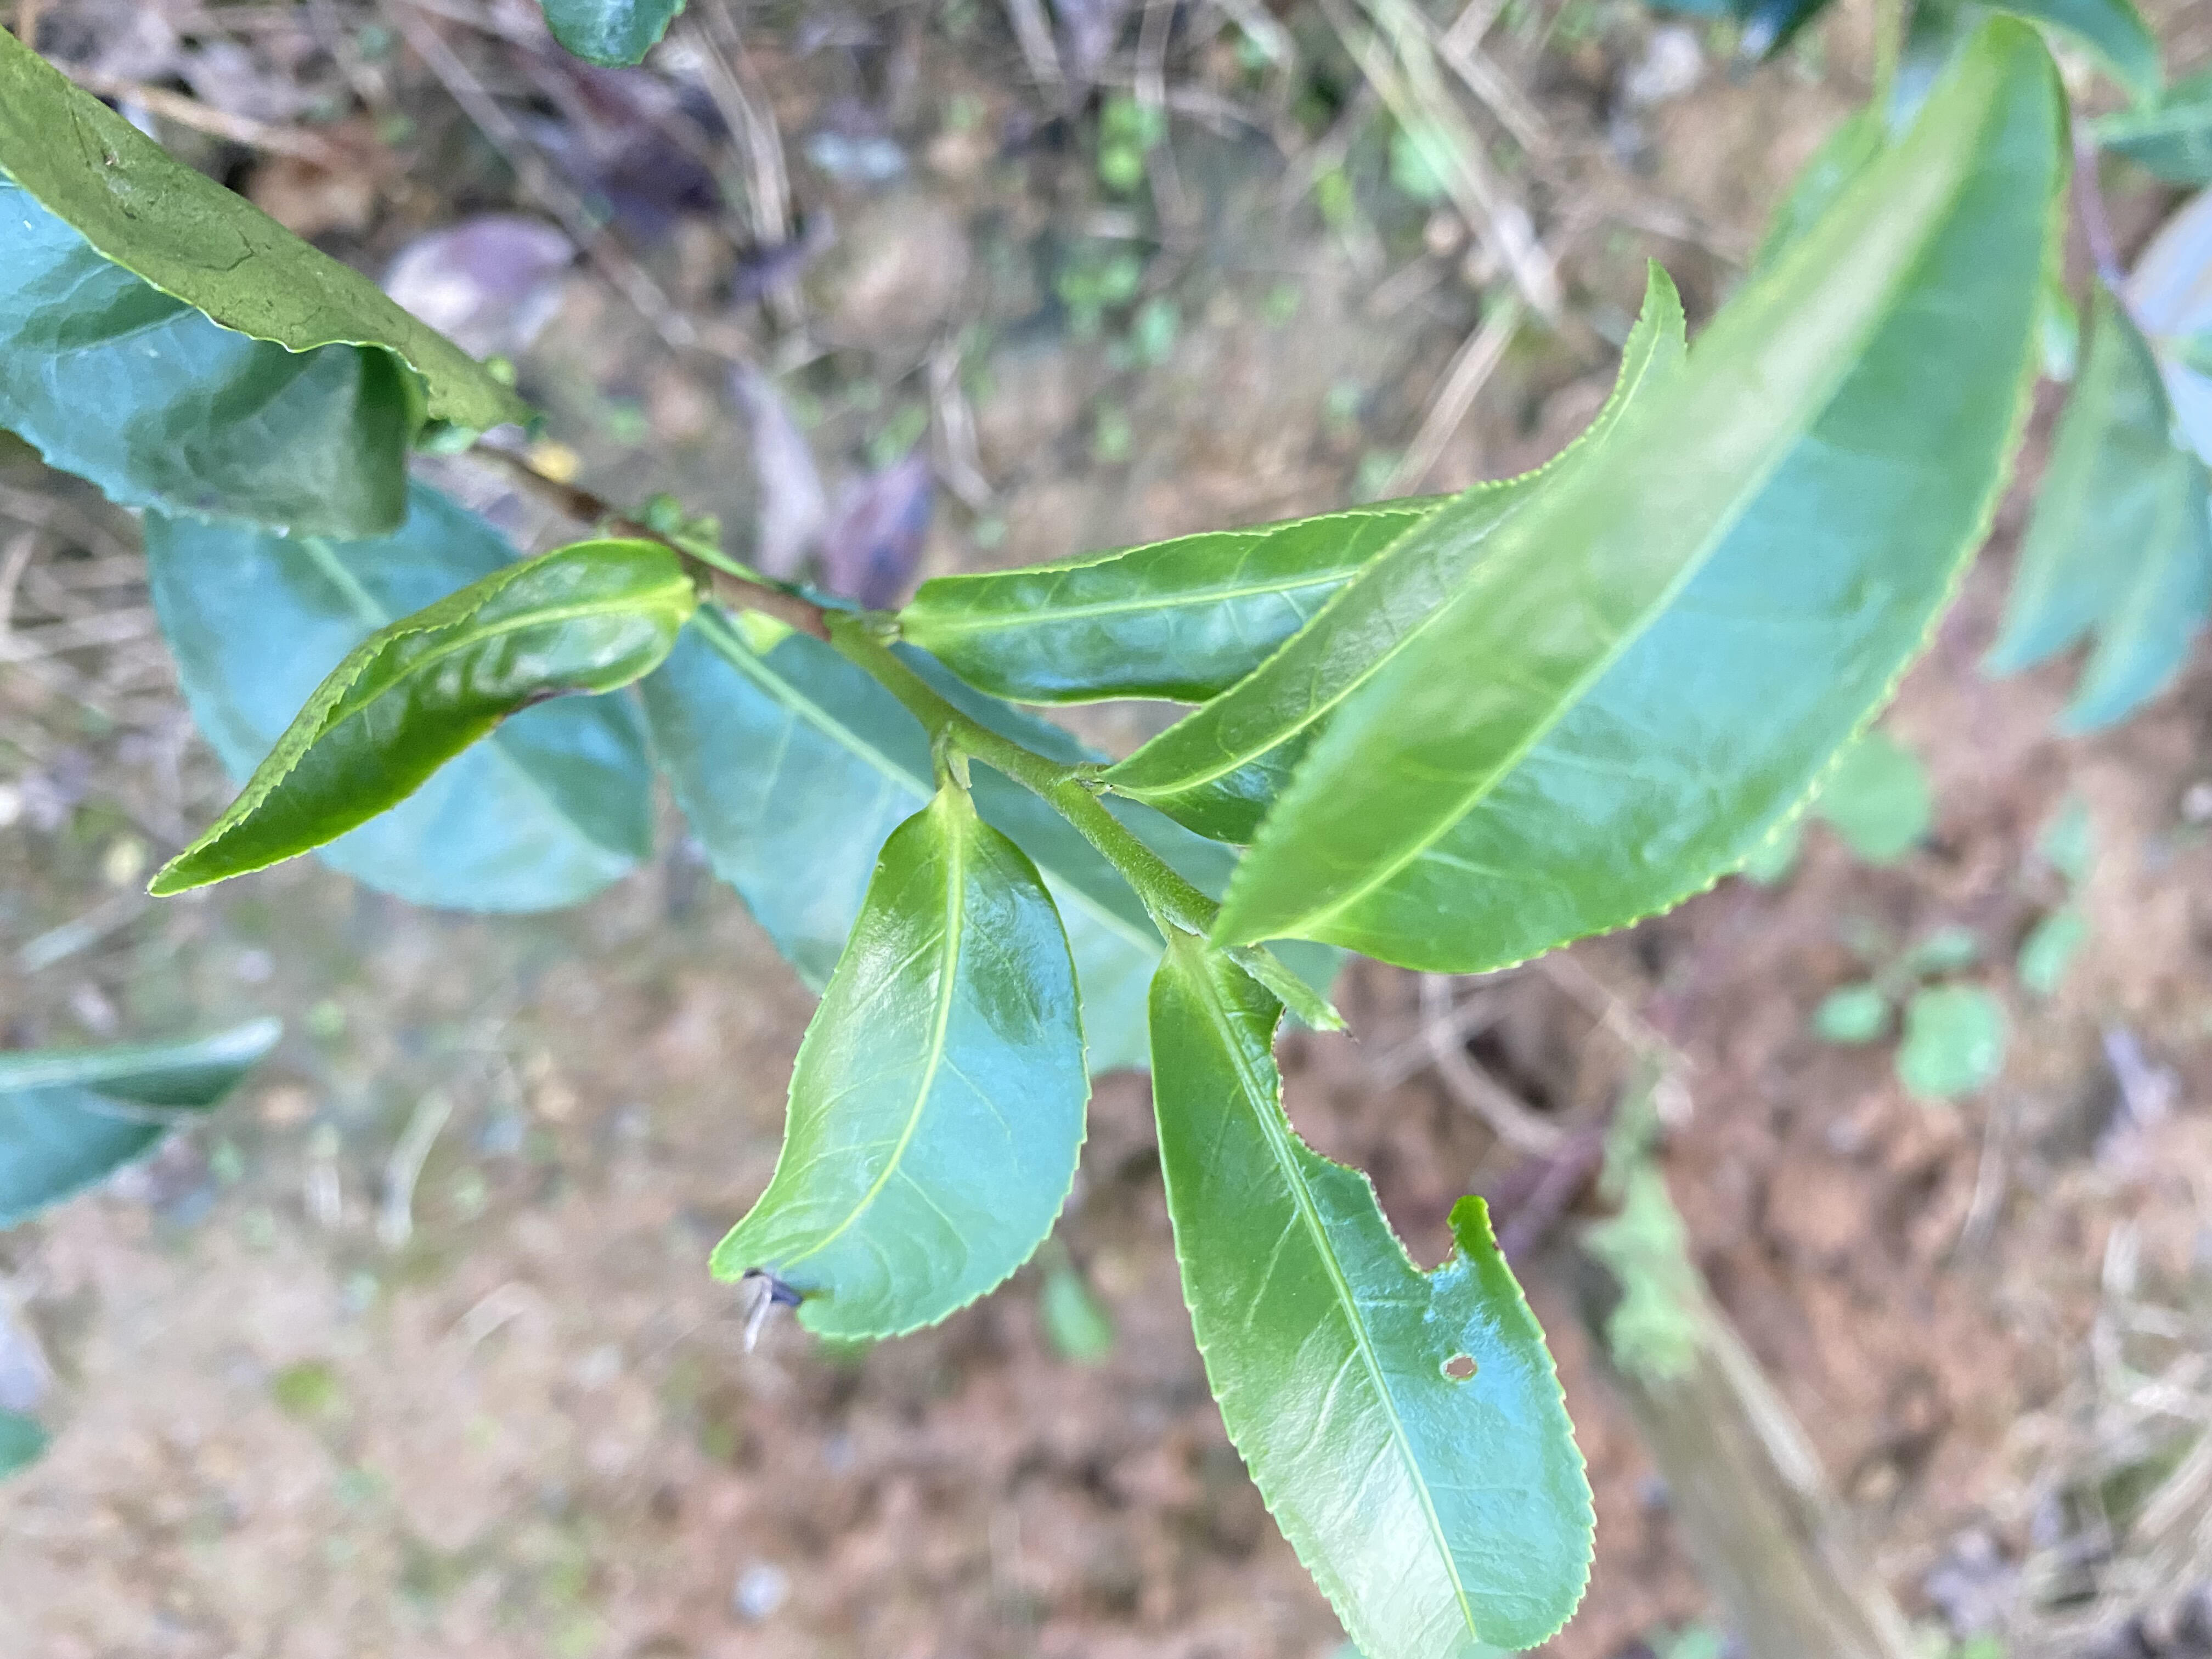chihuo_high: (1144, 929, 1595, 1657)
tanju_low: (711, 800, 1092, 1344), (148, 540, 690, 894)
